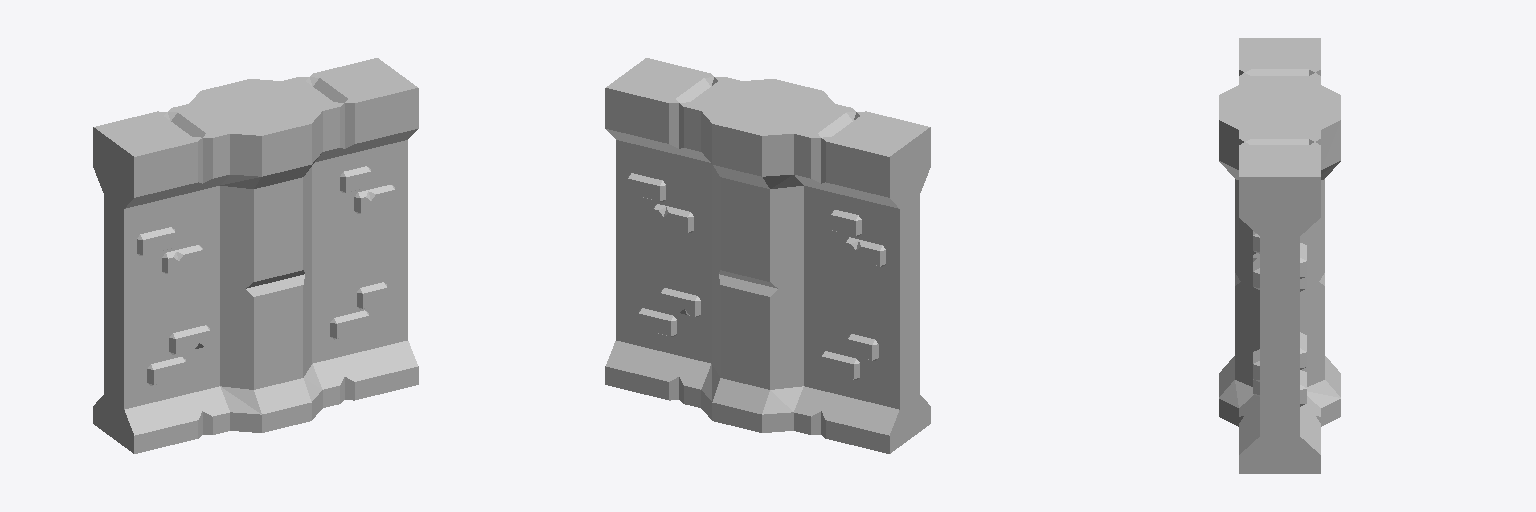
Rendered from wall_pillar.obj.
3 views of the same model, side by side, from view 1: azimuth 30°, elevation 25°; view 2: azimuth 150°, elevation 25°; view 3: azimuth 270°, elevation 25° (orthographic).
Visible parts, largest first — view 1: wall_pillar; view 2: wall_pillar; view 3: wall_pillar.
Boxes of the visible parts, x1,y1,x2,y2 form: wall_pillar: [93, 58, 418, 453]; wall_pillar: [605, 58, 930, 453]; wall_pillar: [1219, 38, 1340, 473].
Size of the model in its own units: 4 by 4 by 1.5.